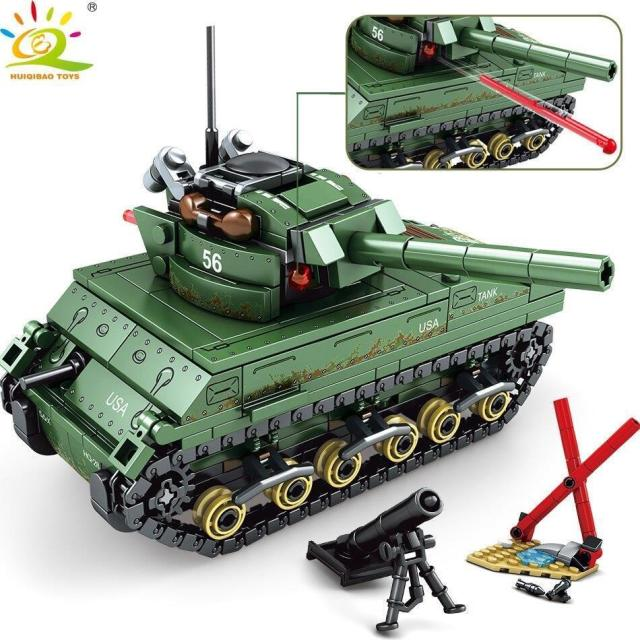Tanks: (10, 113, 611, 433), (348, 17, 619, 169)
